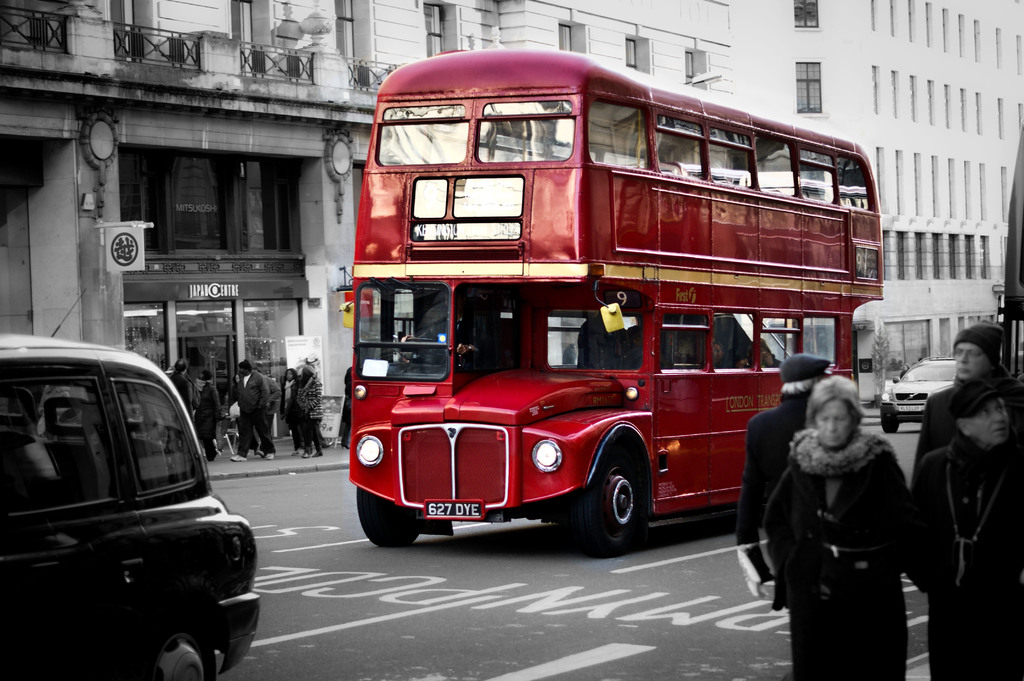Bus: (337, 47, 882, 554)
